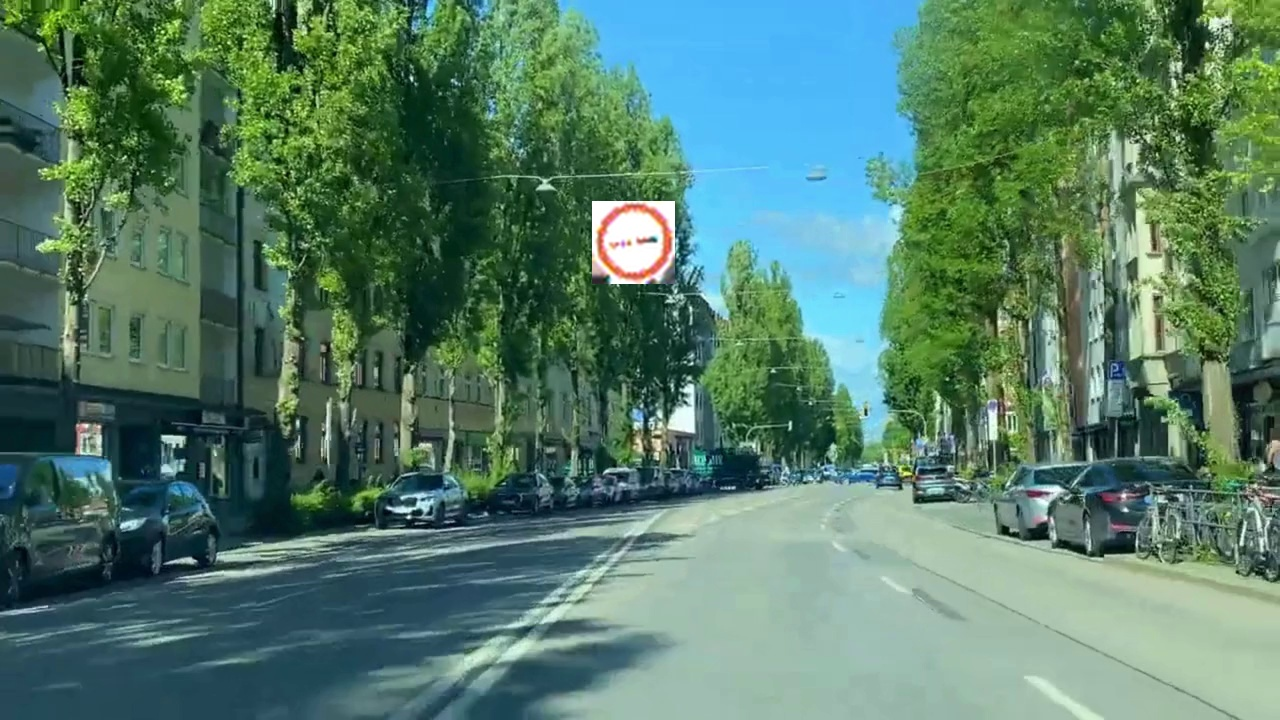No passing: (592, 201, 675, 284)
